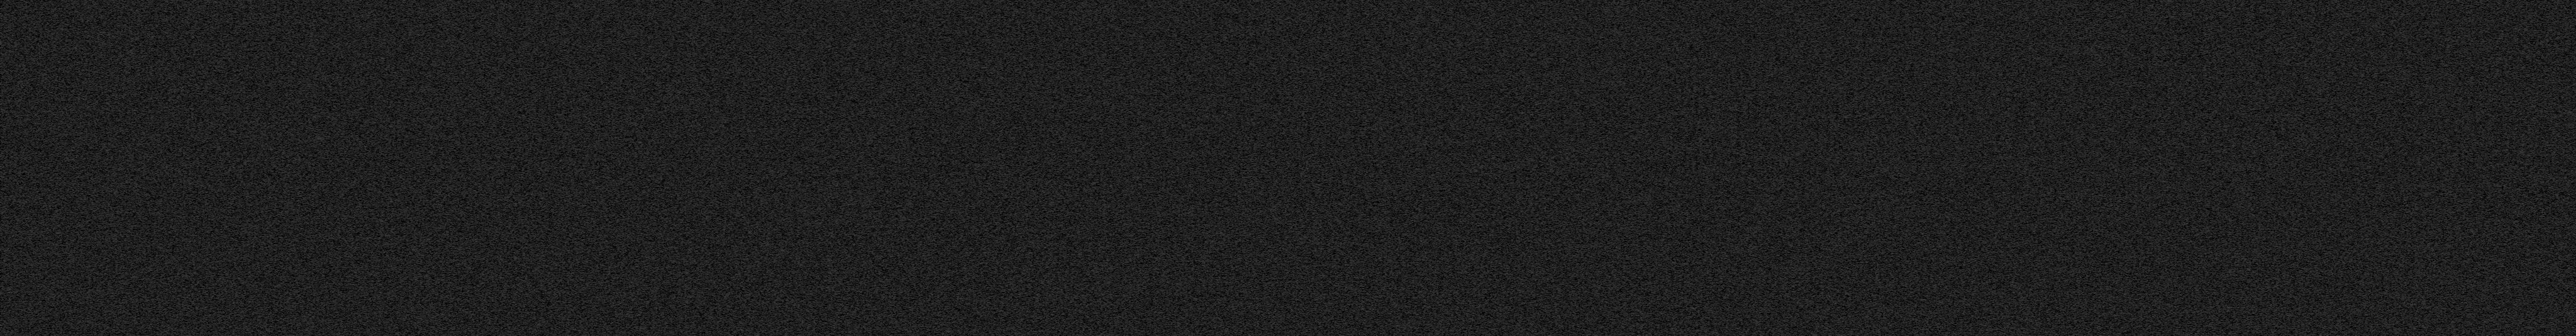wv_am: (2366, 0, 2369, 336), (2372, 0, 2376, 336)
wv_cw: (1263, 0, 1267, 336), (1732, 0, 1735, 336)
wv_lsb: (2400, 10, 2402, 35), (2400, 58, 2402, 68), (2400, 222, 2402, 231), (2400, 201, 2402, 209), (2400, 87, 2402, 96), (2400, 35, 2402, 43), (2400, 186, 2402, 193), (2400, 81, 2402, 87), (2399, 3, 2402, 7), (2400, 301, 2402, 306), (2400, 232, 2402, 237), (2400, 194, 2402, 199), (2400, 130, 2402, 135), (2400, 117, 2402, 122), (2400, 69, 2402, 74), (2400, 48, 2402, 53), (2400, 308, 2402, 311), (2400, 293, 2402, 296), (2400, 277, 2402, 280), (2400, 250, 2402, 254), (2400, 244, 2402, 247), (2400, 240, 2402, 244), (2400, 219, 2402, 222), (2400, 216, 2402, 219), (2400, 171, 2402, 175), (2400, 161, 2402, 165), (2400, 148, 2402, 152), (2400, 102, 2402, 105), (2400, 97, 2402, 100), (2400, 77, 2402, 81), (2400, 43, 2402, 46), (2400, 265, 2402, 267), (2400, 257, 2402, 259), (2400, 237, 2402, 239), (2400, 212, 2402, 214), (2400, 209, 2402, 211), (2400, 181, 2402, 183), (2400, 176, 2402, 178), (2400, 158, 2402, 160), (2400, 142, 2402, 143), (2400, 140, 2402, 142), (2400, 137, 2402, 138), (2400, 128, 2402, 130), (2400, 124, 2402, 125), (2400, 107, 2402, 109), (2400, 54, 2402, 56), (2400, 7, 2402, 8)
wv_usb: (2321, 184, 2323, 232), (2321, 142, 2323, 153), (2321, 270, 2323, 280), (2321, 155, 2323, 165), (2321, 128, 2323, 138), (2321, 260, 2323, 268), (2321, 247, 2323, 255), (2321, 234, 2323, 242), (2321, 94, 2323, 102), (2321, 178, 2323, 184), (2321, 165, 2323, 171), (2321, 122, 2323, 128), (2321, 43, 2323, 49), (2321, 35, 2323, 41), (2321, 295, 2323, 301), (2321, 331, 2323, 336), (2321, 290, 2323, 295), (2321, 285, 2323, 290), (2321, 242, 2323, 247), (2321, 171, 2323, 176), (2321, 56, 2323, 61), (2321, 25, 2323, 30), (2321, 257, 2323, 260), (2321, 326, 2323, 329), (2321, 119, 2323, 122), (2321, 109, 2323, 112), (2321, 89, 2323, 92), (2321, 63, 2323, 66), (2321, 51, 2323, 54), (2321, 20, 2323, 23), (2321, 15, 2323, 18), (2321, 8, 2323, 12), (2321, 282, 2323, 283), (2321, 138, 2323, 140), (2321, 323, 2323, 324), (2321, 105, 2323, 107), (2321, 74, 2323, 76), (2321, 71, 2323, 72), (2321, 320, 2323, 321), (2321, 13, 2323, 15), (2321, 3, 2323, 5), (2321, 311, 2323, 313), (2321, 308, 2323, 310), (2321, 305, 2323, 306), (2321, 303, 2323, 305)
